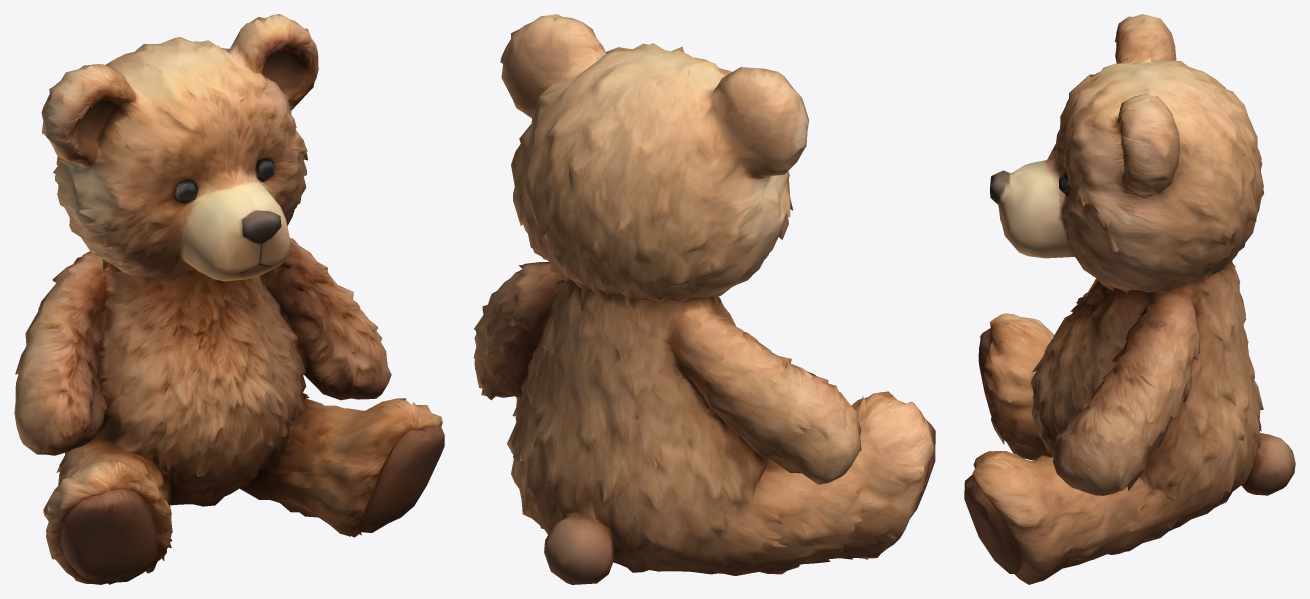
The model's file is tripo_convert_d11ee179-b237-4504-9f2d-b8fa4a116b56.fbx.
3 views of the same model, side by side, from view 1: azimuth 30°, elevation 25°; view 2: azimuth 150°, elevation 25°; view 3: azimuth 270°, elevation 25° (orthographic). The views are drawn at different scales.
Parts seen in each view (by area): view 1: tripo_node_d11ee179; view 2: tripo_node_d11ee179; view 3: tripo_node_d11ee179.
Part boxes in pixels (x1=…): tripo_node_d11ee179: x1=14, y1=14, x2=444, y2=584; tripo_node_d11ee179: x1=473, y1=14, x2=935, y2=584; tripo_node_d11ee179: x1=964, y1=14, x2=1295, y2=584.
Bounding box in the file's own units: 0.8408 × 1 × 0.6553.
1 material, 1 textured.
